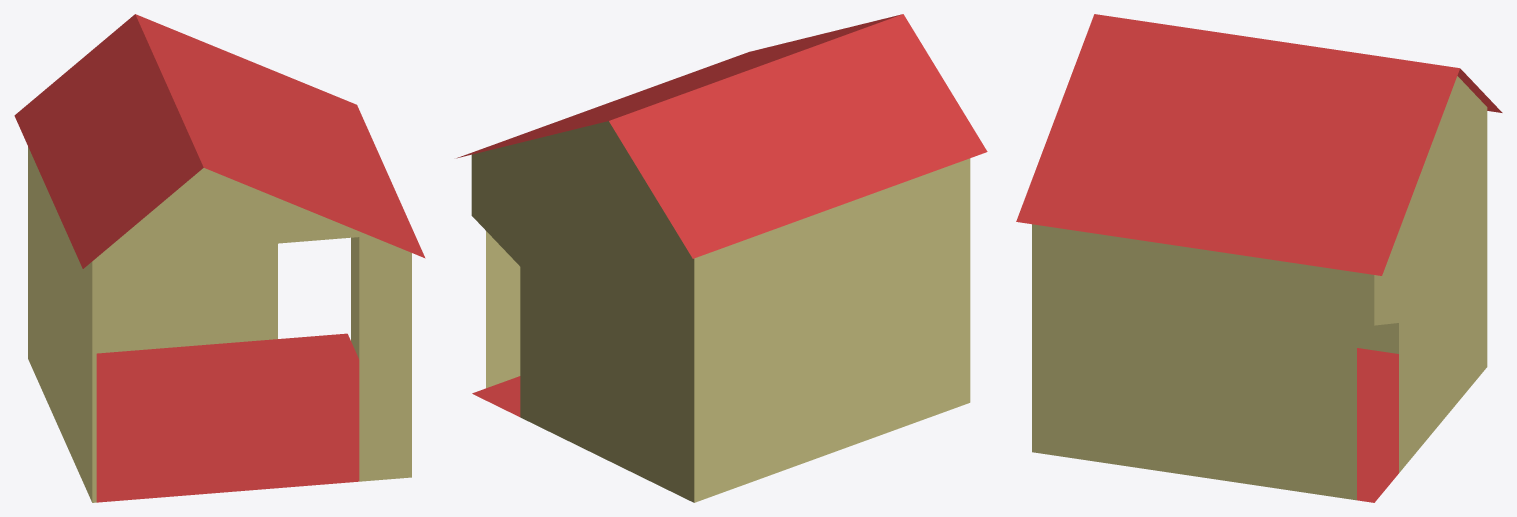
3 views of the same model, side by side, from view 1: azimuth 30°, elevation 25°; view 2: azimuth 150°, elevation 25°; view 3: azimuth 270°, elevation 25° (orthographic). The views are drawn at different scales.
Size of the model in its own units: 19.2 by 19.76 by 15.55.
